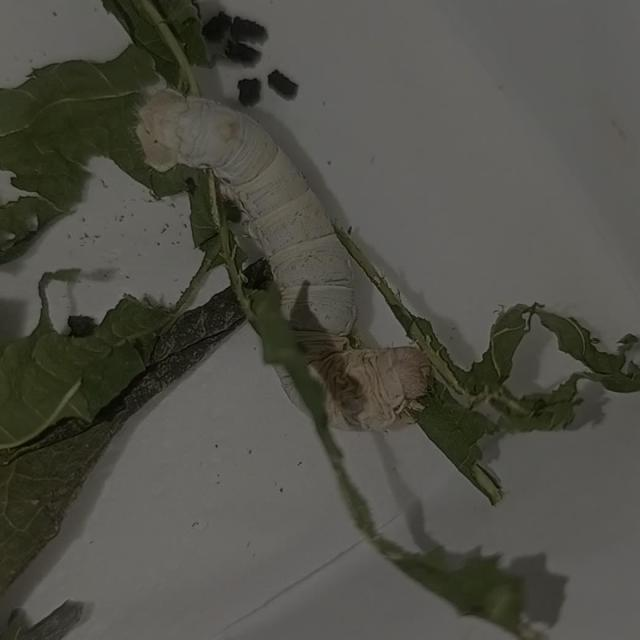Healthy: (105, 54, 451, 449)
